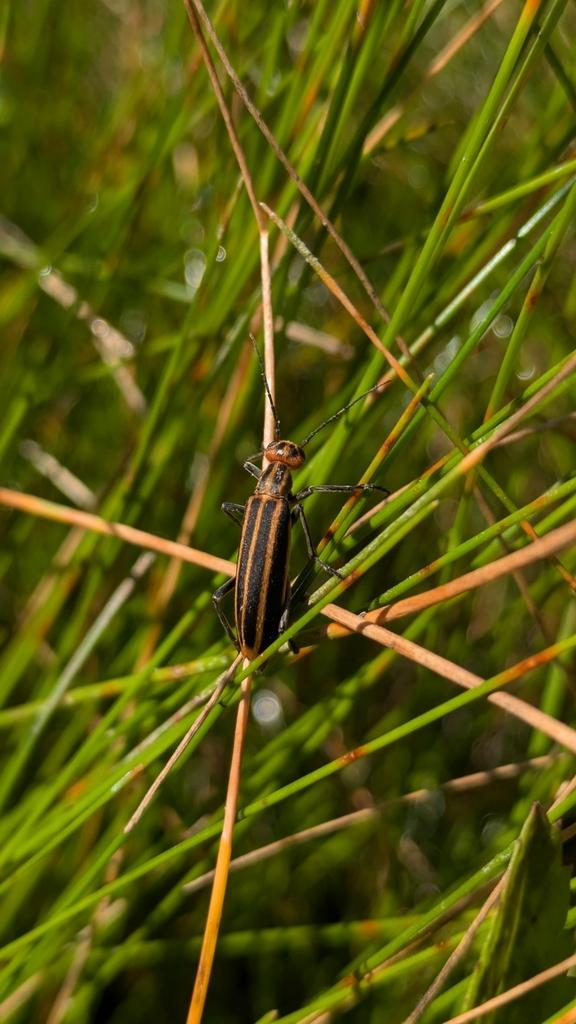blister_beetle: (144, 294, 419, 718)
